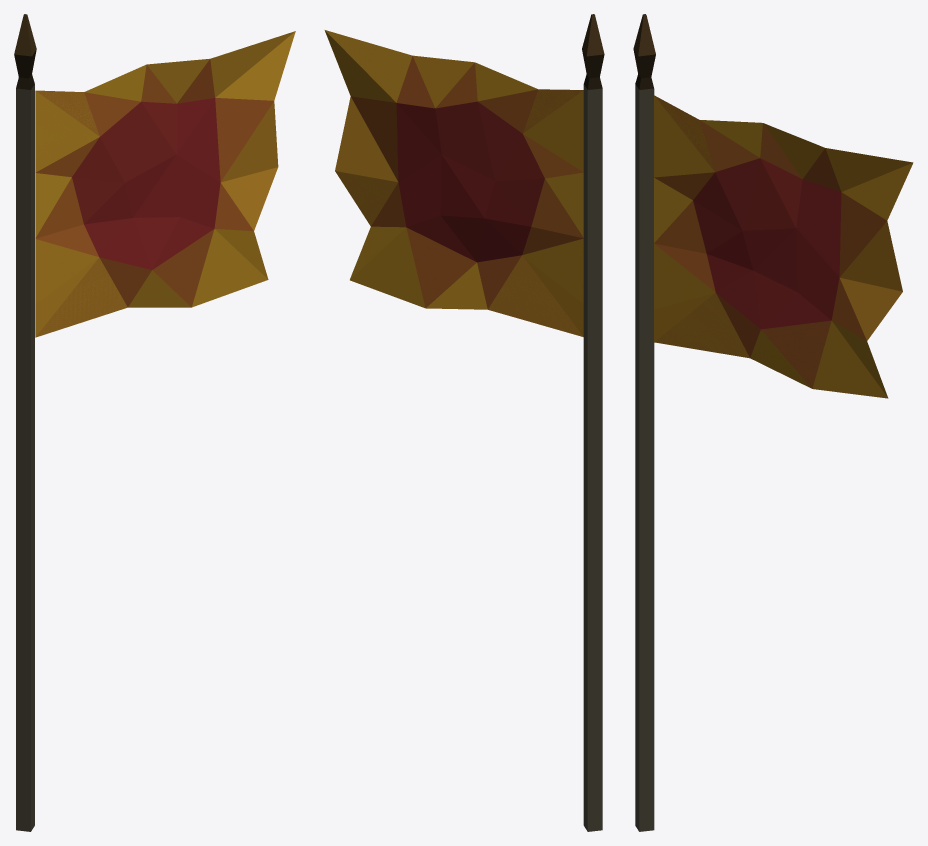
File: Prop_FlagSquareC.fbx
3 renders of one model, left to right at view 1: azimuth 30°, elevation 25°; view 2: azimuth 150°, elevation 25°; view 3: azimuth 330°, elevation 25°, orthographic.
Visible parts, largest first — view 1: Prop_FlagSquareC; view 2: Prop_FlagSquareC; view 3: Prop_FlagSquareC.
Part boxes in pixels (x1=…): Prop_FlagSquareC: x1=14, y1=14, x2=295, y2=831; Prop_FlagSquareC: x1=324, y1=14, x2=604, y2=831; Prop_FlagSquareC: x1=633, y1=14, x2=913, y2=831.
Size of the model in its own units: 149 by 411 by 11.99.
